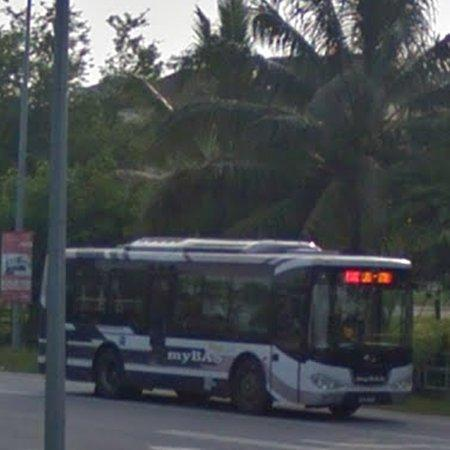buses: (66, 239, 412, 416)
